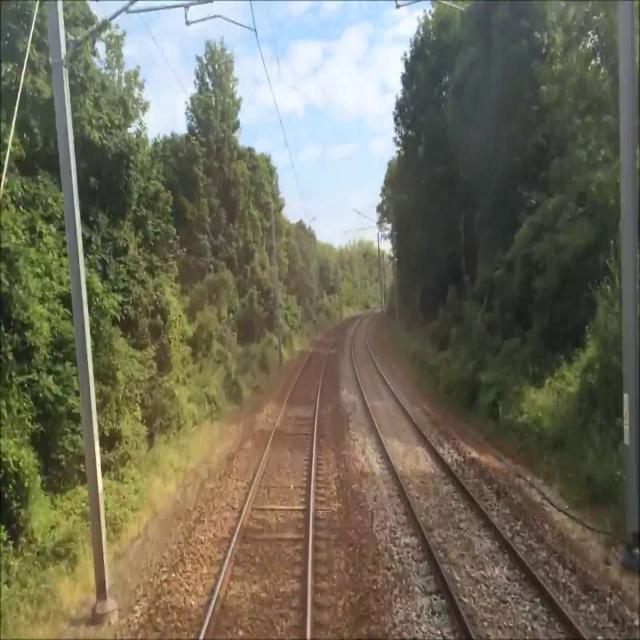rail-track: (353, 313, 582, 639), (203, 322, 348, 639)
